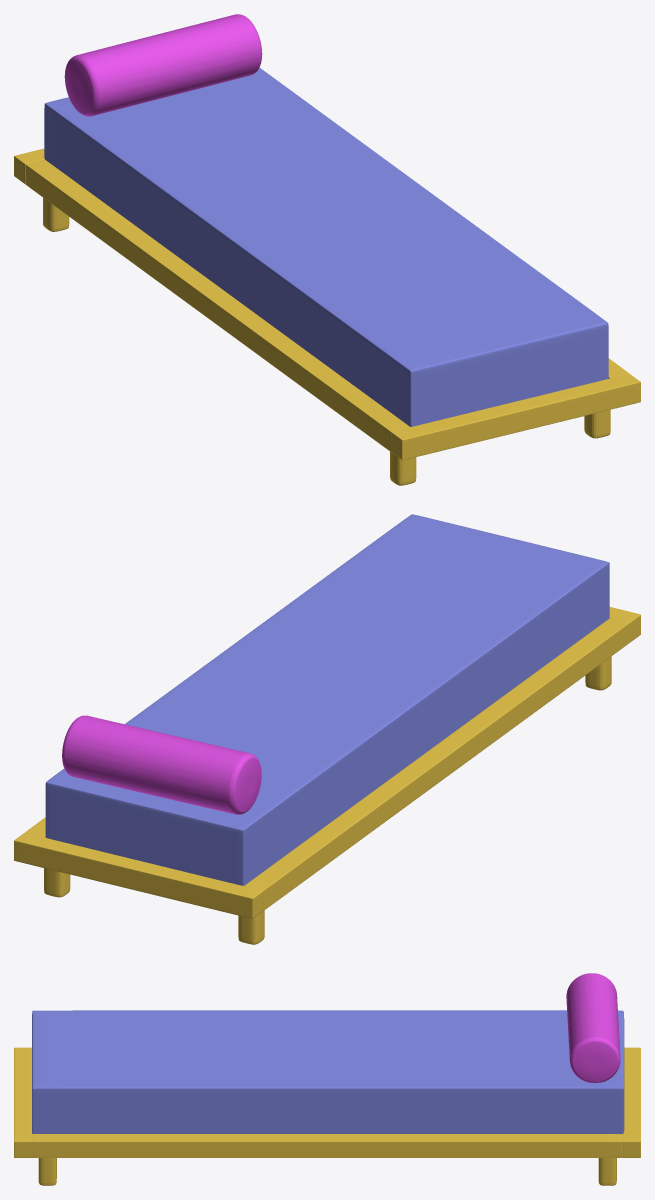
Rendered from Chair.fbx.
The picture shows the model from 3 angles, top to bottom: view 1: azimuth 30°, elevation 25°; view 2: azimuth 150°, elevation 25°; view 3: azimuth 270°, elevation 25°; orthographic projection. The views are drawn at different scales.
Parts seen in each view (by area): view 1: Cube.010, Cube.002; view 2: Cube.010, Cube.002; view 3: Cube.010, Cube.002.
Boxes of the visible parts, bbox=[...] form: Cube.010: bbox=[14, 67, 640, 485]; Cube.002: bbox=[64, 14, 262, 116]; Cube.010: bbox=[14, 514, 640, 944]; Cube.002: bbox=[62, 715, 261, 814]; Cube.010: bbox=[14, 1010, 640, 1185]; Cube.002: bbox=[566, 973, 620, 1082].
Size of the model in its own units: 0.6027 by 0.4167 by 1.7.
